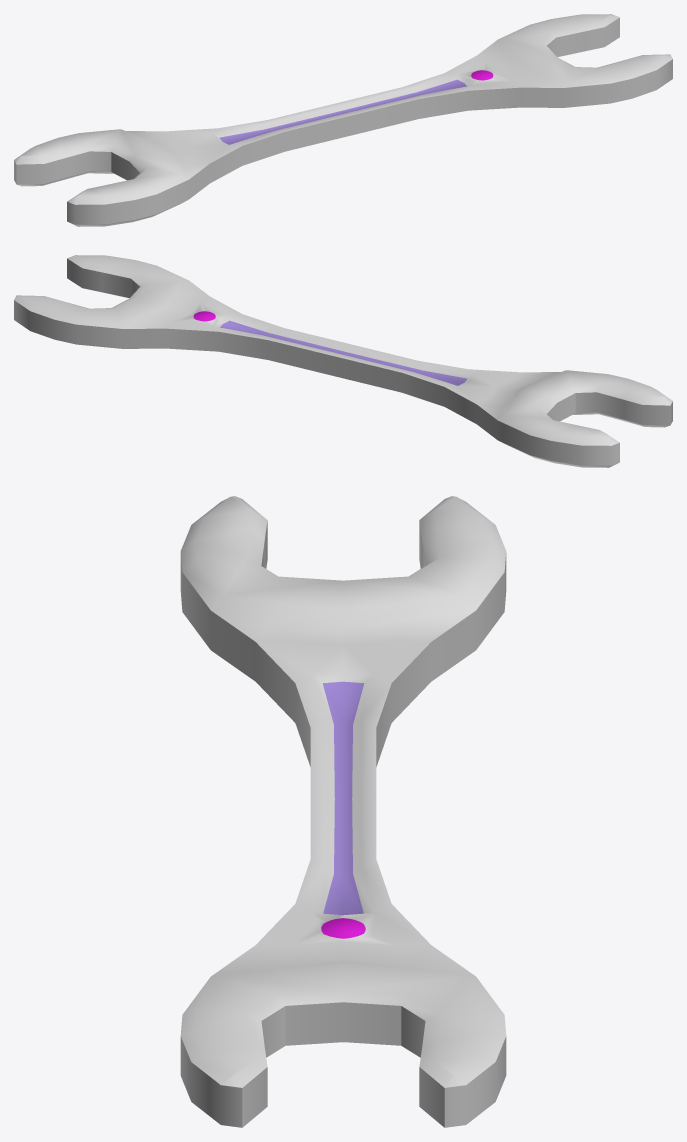
Rendered from Wrench.fbx.
The picture shows the model from 3 angles, top to bottom: view 1: azimuth 30°, elevation 25°; view 2: azimuth 150°, elevation 25°; view 3: azimuth 270°, elevation 25°; orthographic projection. The views are drawn at different scales.
Parts seen in each view (by area): view 1: Cylinder001; view 2: Cylinder001; view 3: Cylinder001.
Boxes of the visible parts, <box> form: Cylinder001: <box>14,14,672,226</box>; Cylinder001: <box>14,255,672,467</box>; Cylinder001: <box>180,496,506,1127</box>.
Size of the model in its own units: 75.03 by 3.59 by 17.53.
